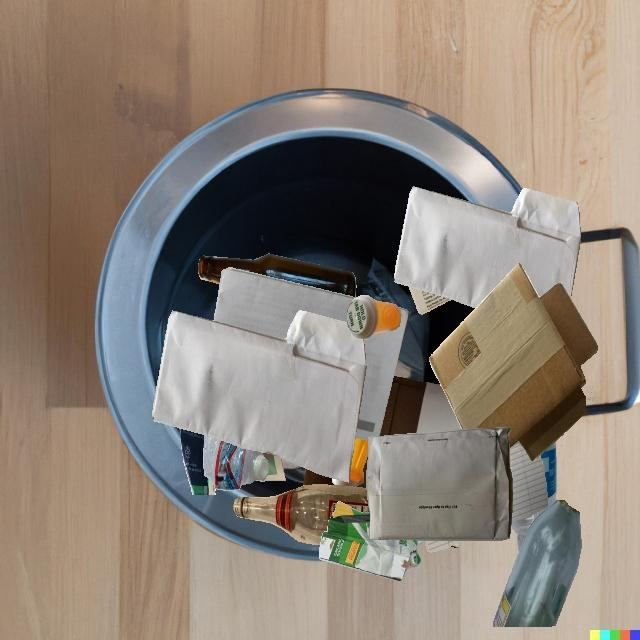cardboard: (429, 263, 598, 460), (321, 429, 462, 541), (319, 501, 421, 581), (379, 376, 462, 436)
glass: (493, 500, 581, 627), (233, 484, 370, 545), (198, 254, 356, 297)
paper: (152, 310, 366, 482), (394, 186, 581, 308), (366, 427, 512, 541), (214, 267, 357, 339), (355, 307, 410, 440), (509, 443, 548, 522), (180, 428, 216, 495), (408, 286, 452, 314), (256, 452, 285, 481)
plastic: (511, 441, 557, 551), (203, 435, 269, 490), (347, 295, 401, 339), (332, 437, 368, 487)
